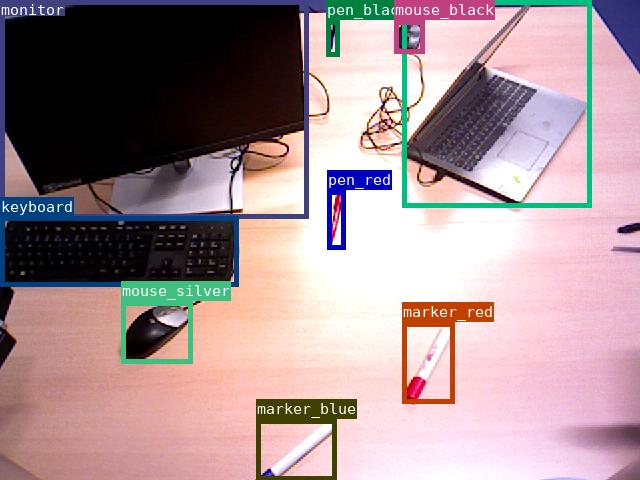keyboard: (0, 216, 238, 286)
laptop: (402, 0, 591, 207)
marker_blue: (256, 419, 336, 480)
marker_red: (402, 322, 454, 403)
monitor: (0, 0, 308, 218)
mouse_black: (394, 20, 424, 53)
mouse_silver: (121, 301, 192, 363)
pen_black: (326, 20, 339, 56)
pen_red: (327, 190, 345, 249)
